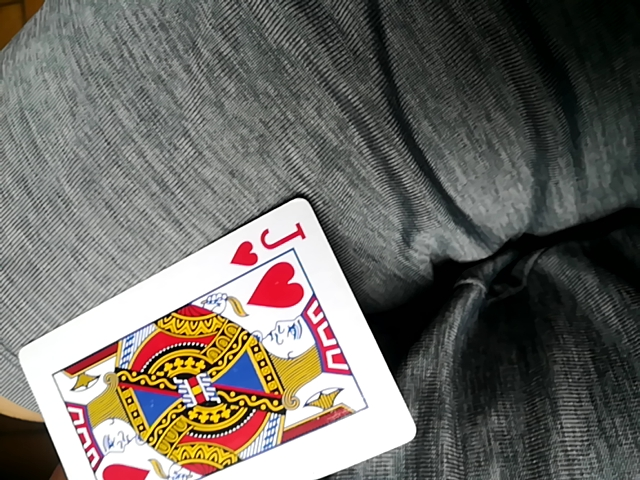hx j: (21, 197, 413, 476)
